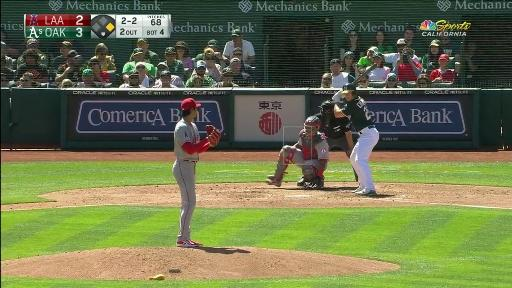pitcher: (173, 98, 220, 246)
